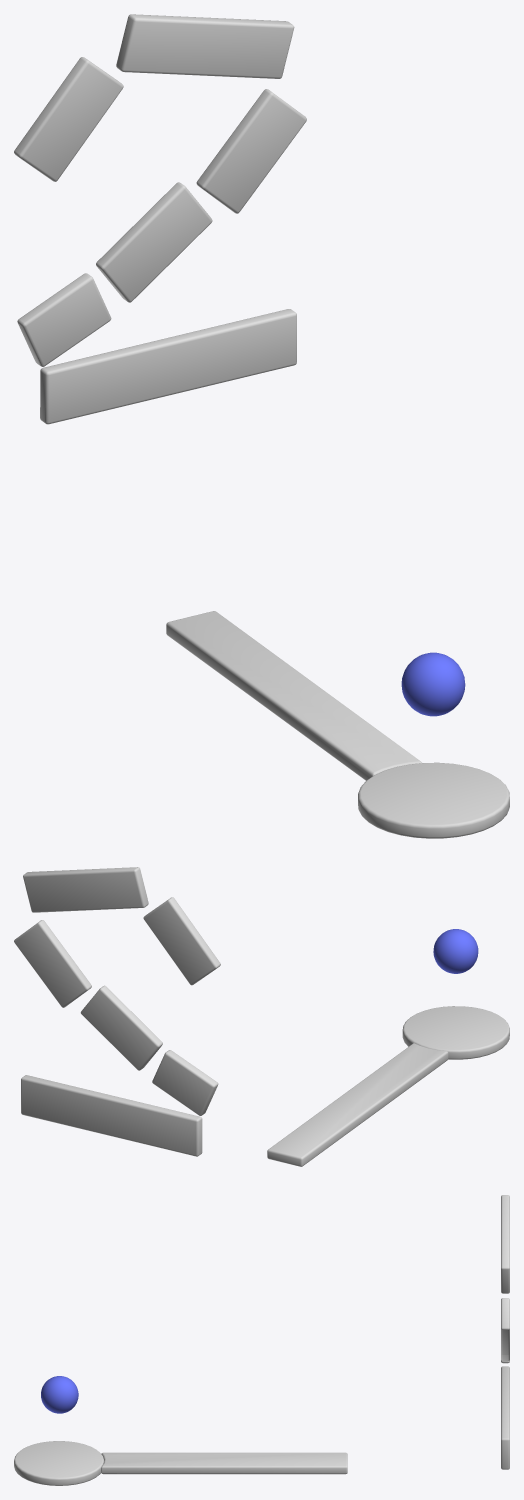
File: level2.glb
3 views of the same model, one above another, from view 1: azimuth 30°, elevation 25°; view 2: azimuth 150°, elevation 25°; view 3: azimuth 270°, elevation 25° (orthographic). The views are drawn at different scales.
Parts seen in each view (by area): view 1: Cube.001, Cube, Cube.002, Start, Cube.005, Cube.003, Cube.004, Cube.006, Player; view 2: Cube.001, Cube, Cube.002, Start, Cube.005, Cube.003, Cube.004, Cube.006, Player; view 3: Cube, Start, Player, Cube.001, Cube.002, Cube.004.
Part boxes in pixels (left/top/right/bottom): Cube.001: left=40, top=309, right=296, bottom=424; Cube: left=166, top=611, right=421, bottom=780; Cube.002: left=116, top=14, right=294, bottom=78; Start: left=358, top=762, right=509, bottom=838; Cube.005: left=96, top=182, right=212, bottom=302; Cube.003: left=14, top=57, right=123, bottom=181; Cube.004: left=196, top=89, right=306, bottom=213; Cube.006: left=17, top=273, right=111, bottom=366; Player: left=401, top=652, right=465, bottom=716; Cube.001: left=21, top=1075, right=202, bottom=1156; Cube: left=267, top=1043, right=448, bottom=1166; Cube.002: left=23, top=867, right=148, bottom=912; Start: left=402, top=1006, right=509, bottom=1059; Cube.005: left=80, top=985, right=162, bottom=1070; Cube.003: left=143, top=897, right=220, bottom=985; Cube.004: left=14, top=920, right=91, bottom=1007; Cube.006: left=152, top=1050, right=218, bottom=1115; Player: left=433, top=929, right=478, bottom=973; Cube: left=101, top=1452, right=347, bottom=1474; Start: left=14, top=1441, right=104, bottom=1485; Player: left=41, top=1376, right=78, bottom=1413; Cube.001: left=501, top=1366, right=509, bottom=1469; Cube.002: left=501, top=1195, right=509, bottom=1293; Cube.004: left=501, top=1298, right=509, bottom=1354.
Bounding box in the file's own units: 11.32 × 17.16 × 26.21.
